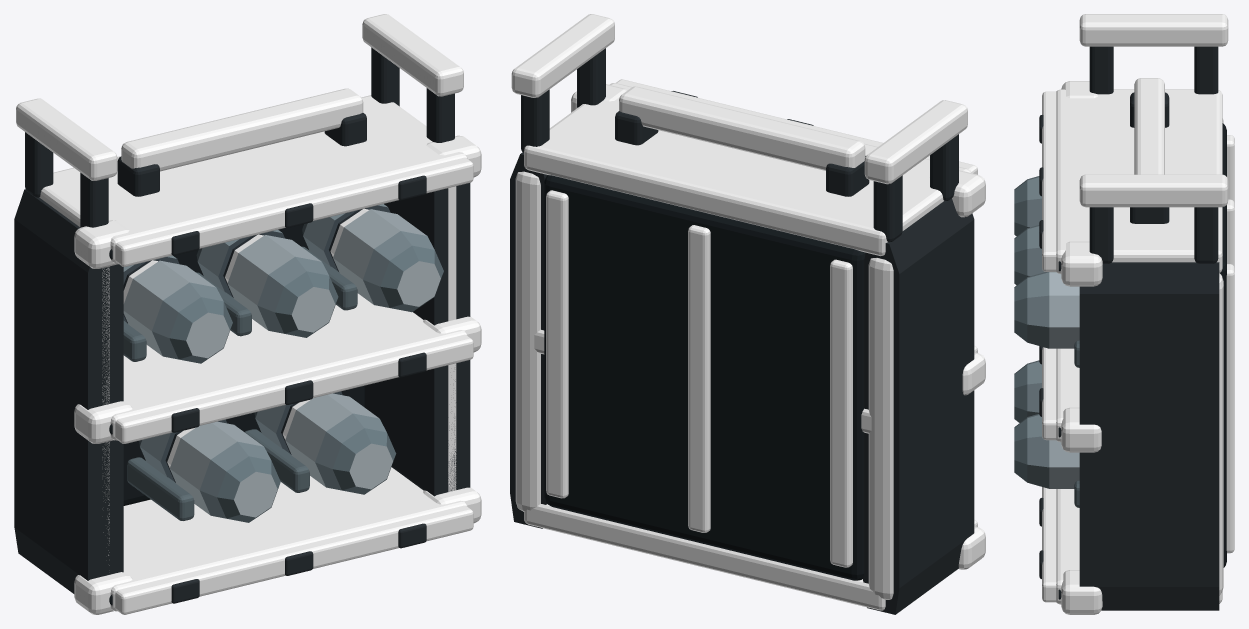
Rendered from micro_missile_pack.glb.
3 renders of one model, left to right at view 1: azimuth 30°, elevation 25°; view 2: azimuth 150°, elevation 25°; view 3: azimuth 270°, elevation 25°, orthographic. The views are drawn at different scales.
Parts seen in each view (by area): view 1: RackArmoredSide.001, RackShelf.002, Missile_4, Missile_2, RackShelf, RackShelf.001, Missile_1, RackCentralCarryHandle, RackFrontShelfEdge.002, RackFrontShelfEdge.001, RackFrontShelfEdge, RackSideCarryGrip.001 (+16 smaller); view 2: RackRearServicePlate, RackArmoredSide.001, RackShelf.002, RackSideRail.001, RackRearFrame.002, RackCentralCarryHandle, RackShelf, RackSideCarryGrip.001, RackRearFrame.001, RackHandleUpright.003, RackHandleUpright.002, RackTopHandleFoot.001 (+4 smaller); view 3: RackArmoredSide.001, RackShelf.002, RackSideCarryGrip.001, Missile_2, Missile_4, RackRearFrame.002, RackCentralCarryHandle, RackFrontShelfEdge.002, RackHandleUpright.003, RackHandleUpright.002, RackFrameJoint.005, RackShelf (+10 smaller).
Boxes of the visible parts, <box> form: RackArmoredSide.001: <box>14,183,470,593</box>; RackShelf.002: <box>39,95,467,263</box>; Missile_4: <box>139,391,396,522</box>; Missile_2: <box>123,204,443,363</box>; RackShelf: <box>110,467,467,611</box>; RackShelf.001: <box>110,293,467,440</box>; Missile_1: <box>196,229,338,337</box>; RackCentralCarryHandle: <box>121,88,363,171</box>; RackFrontShelfEdge.002: <box>115,157,473,266</box>; RackFrontShelfEdge.001: <box>115,334,473,443</box>; RackFrontShelfEdge: <box>115,505,473,614</box>; RackSideCarryGrip.001: <box>16,14,463,180</box>; RackRearServicePlate: <box>544,175,865,580</box>; RackArmoredSide.001: <box>510,152,974,614</box>; RackShelf.002: <box>524,83,971,256</box>; RackSideRail.001: <box>515,171,893,599</box>; RackRearFrame.002: <box>546,190,852,567</box>; RackCentralCarryHandle: <box>619,86,865,170</box>; RackShelf: <box>524,504,885,610</box>; RackSideCarryGrip.001: <box>511,14,967,184</box>; RackRearFrame.001: <box>688,225,710,532</box>; RackHandleUpright.003: <box>521,89,902,242</box>; RackHandleUpright.002: <box>577,48,958,200</box>; RackTopHandleFoot.001: <box>615,111,869,196</box>; RackArmoredSide.001: <box>1079,262,1219,610</box>; RackShelf.002: <box>1056,89,1222,273</box>; RackSideCarryGrip.001: <box>1079,14,1228,207</box>; Missile_2: <box>1014,176,1079,348</box>; Missile_4: <box>1014,360,1079,488</box>; RackRearFrame.002: <box>1226,135,1234,553</box>; RackCentralCarryHandle: <box>1134,78,1164,174</box>; RackFrontShelfEdge.002: <box>1042,91,1056,271</box>; RackHandleUpright.003: <box>1194,46,1218,263</box>; RackHandleUpright.002: <box>1089,46,1113,263</box>; RackFrameJoint.005: <box>1061,81,1102,286</box>; RackShelf: <box>1056,489,1222,604</box>.
Size of the model in its own units: 1.97 by 2.17 by 1.01.
